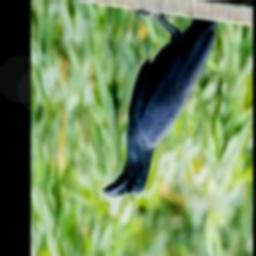Crow: (102, 0, 227, 198)
